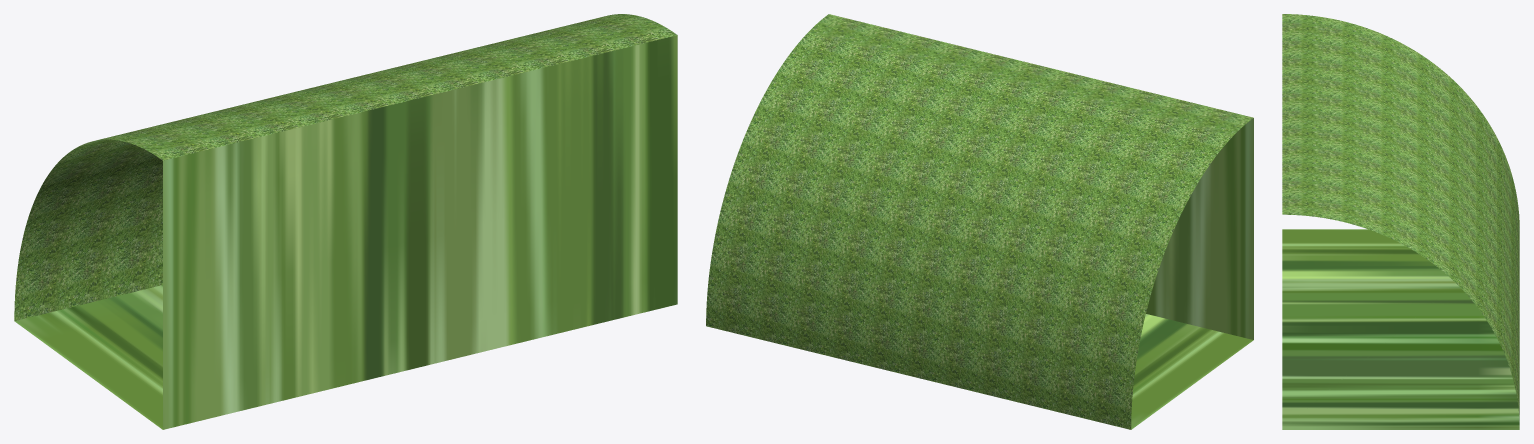
File: Cylinder90Grad.fbx
The picture shows the model from 3 angles, left to right: view 1: azimuth 30°, elevation 25°; view 2: azimuth 150°, elevation 25°; view 3: azimuth 270°, elevation 25°; orthographic projection. The views are drawn at different scales.
Parts seen in each view (by area): view 1: Cylinder; view 2: Cylinder; view 3: Cylinder.
Boxes of the visible parts, <box> form: Cylinder: <box>14,14,677,429</box>; Cylinder: <box>706,14,1253,429</box>; Cylinder: <box>1282,14,1519,429</box>.
Size of the model in its own units: 200 by 100 by 100.
